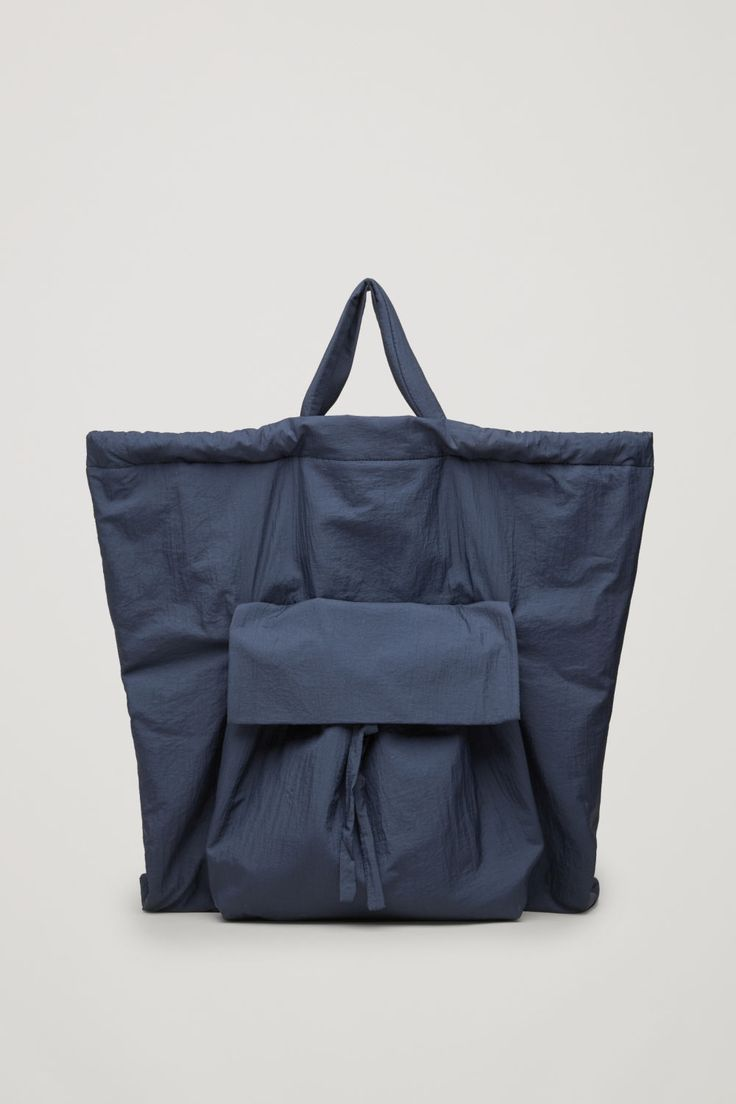nylon: (82, 278, 655, 928)
